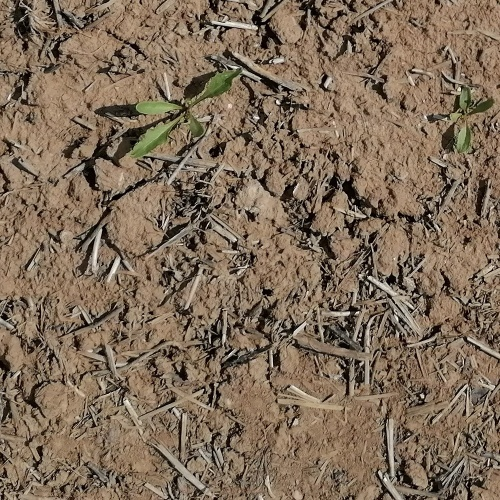beet: (130, 67, 244, 161), (447, 89, 495, 153)
